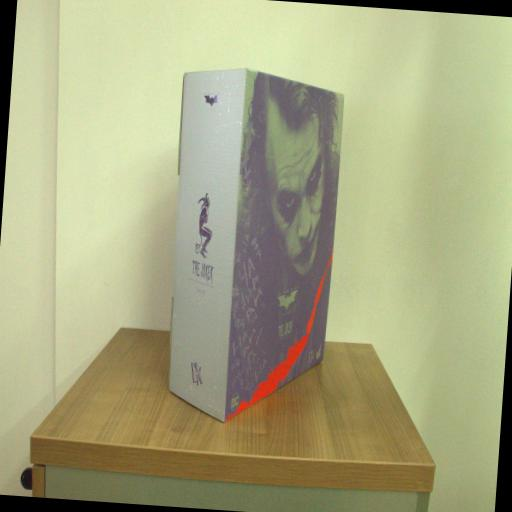Joker: (160, 62, 350, 428)
